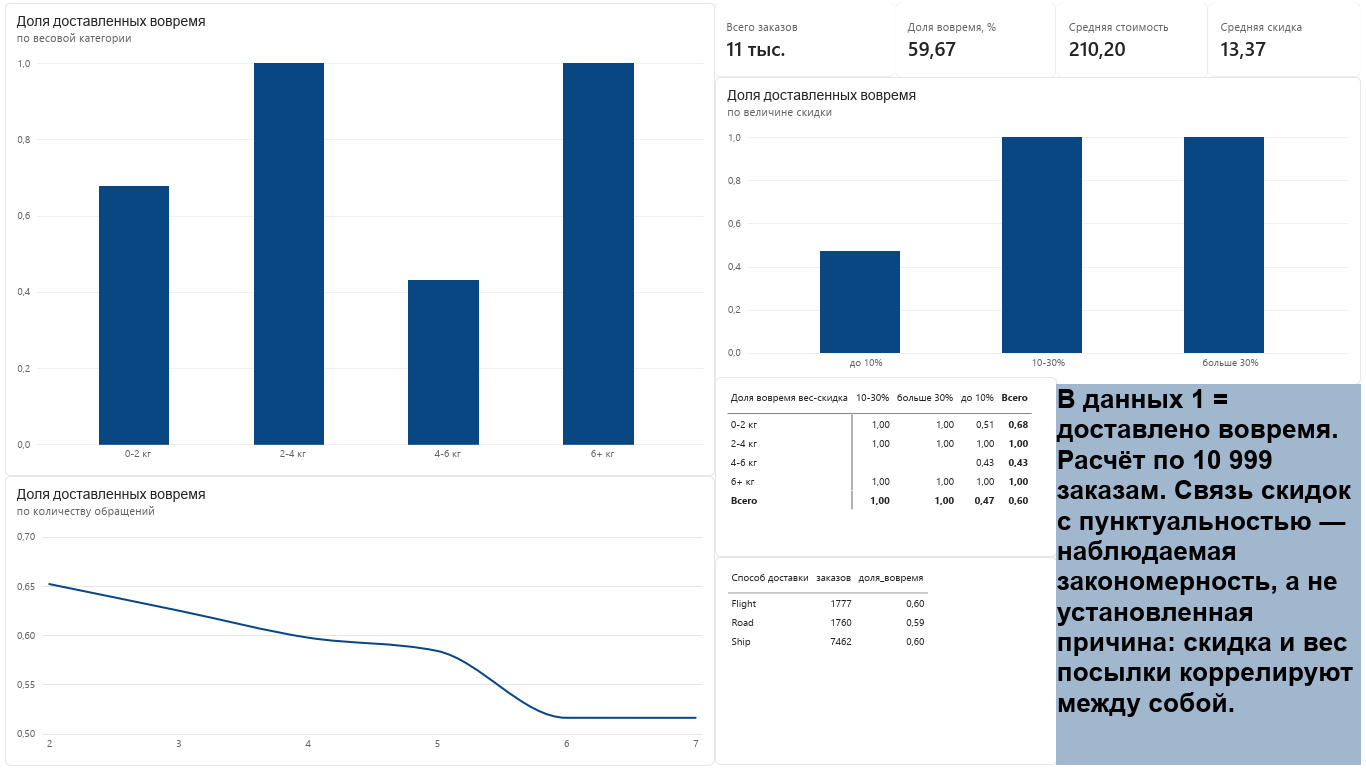

The dashboard page shown, as its layout file describes it:
{"tool":"powerbi","page":{"name":"Страница 1","canvas":[1920,1080],"ordinal":0},"visuals":[{"type":"cardVisual","fields":{"Data":["Данные.Всего заказов"]},"box":[1005.2,0,256.8,105],"z":0},{"type":"cardVisual","fields":{"Data":["Данные.Средняя стоимость"]},"box":[1489.6,0,214.5,106.5],"z":1000},{"type":"cardVisual","fields":{"Data":["Данные.Средняя скидка"]},"box":[1704.1,0,215.9,105],"z":2000},{"type":"cardVisual","fields":{"Data":["Данные.Доля вовремя"]},"box":[1262,0,227.6,106.5],"z":3000},{"type":"columnChart","fields":{"Category":["Данные.weight_bucket"],"Y":["Avg(Данные.Reached.on.Time_Y.N)"]},"box":[0,0,1006,670],"z":4000},{"type":"columnChart","fields":{"Category":["Данные.discount_bucket"],"Y":["Avg(Данные.Reached.on.Time_Y.N)"]},"box":[1005.7,104.3,914,436],"z":5000},{"type":"lineChart","fields":{"Category":["Данные.Customer_care_calls"],"Y":["Avg(Данные.Reached.on.Time_Y.N)"]},"box":[0,669.7,1005.2,410],"z":6000},{"type":"pivotTable","fields":{"Columns":["Данные.discount_bucket"],"Rows":["Данные.weight_bucket"],"Values":["Avg(Данные.Reached.on.Time_Y.N)"]},"box":[1005.5,530.7,484.1,254],"z":7000},{"type":"tableEx","fields":{"Values":["Данные.Mode_of_Shipment","Способ доставки.заказов","Способ доставки.доля_вовремя"]},"box":[1005.5,784.7,484.1,295.3],"z":8000},{"type":"textbox","box":[1489.7,540,429.6,538.7],"z":9000}]}

Visuals, with their boxes in screenshot pixels (x1, y1, x2, y2), scaled from the page's 1920x1080 canvas onto the 1366x770 screenshot:
cardVisual - Данные.Всего заказов: detection(715, 0, 898, 75)
cardVisual - Данные.Средняя стоимость: detection(1060, 0, 1212, 76)
cardVisual - Данные.Средняя скидка: detection(1212, 0, 1365, 75)
cardVisual - Данные.Доля вовремя: detection(898, 0, 1060, 76)
columnChart - Данные.weight_bucket x Avg(Данные.Reached.on.Time_Y.N): detection(0, 0, 716, 478)
columnChart - Данные.discount_bucket x Avg(Данные.Reached.on.Time_Y.N): detection(716, 74, 1365, 385)
lineChart - Данные.Customer_care_calls x Avg(Данные.Reached.on.Time_Y.N): detection(0, 477, 715, 769)
pivotTable - Данные.discount_bucket x Данные.weight_bucket: detection(715, 378, 1060, 559)
tableEx - Данные.Mode_of_Shipment x Способ доставки.заказов: detection(715, 559, 1060, 769)
textbox: detection(1060, 385, 1365, 769)
